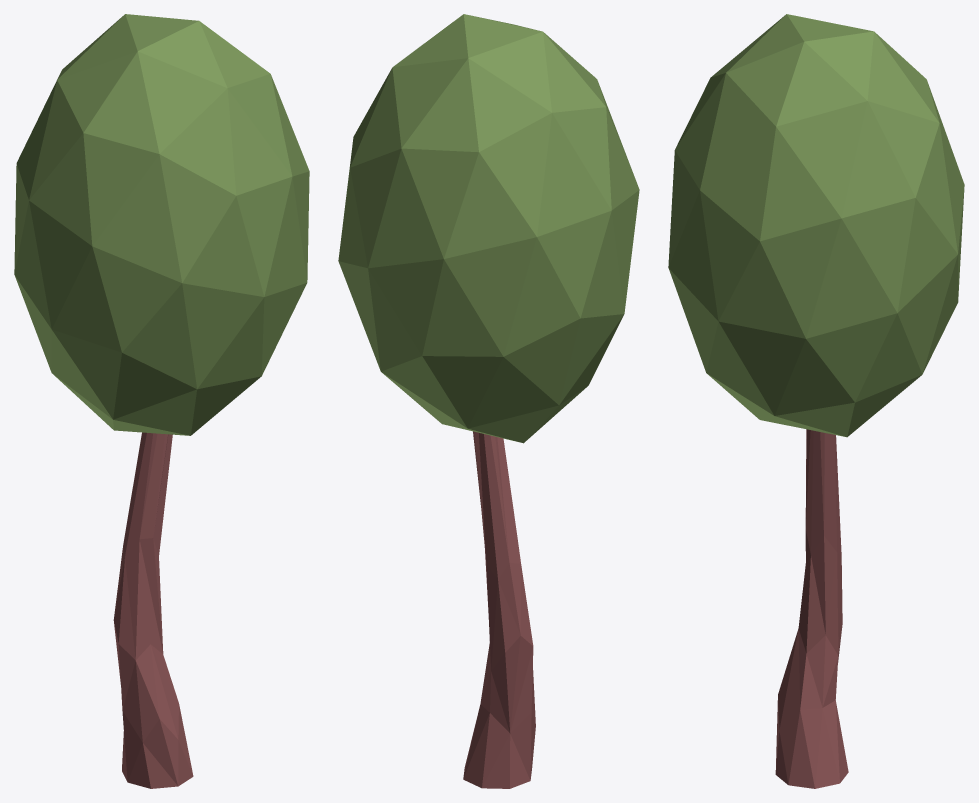
Rendered from Poplar Tree_4.fbx.
3 views of the same model, side by side, from view 1: azimuth 30°, elevation 25°; view 2: azimuth 150°, elevation 25°; view 3: azimuth 270°, elevation 25° (orthographic).
Parts seen in each view (by area): view 1: Poplar Tree_4; view 2: Poplar Tree_4; view 3: Poplar Tree_4.
Part boxes in pixels (box(x1,y1,x2,y2)): Poplar Tree_4: box(14, 14, 309, 788); Poplar Tree_4: box(338, 14, 639, 788); Poplar Tree_4: box(668, 14, 964, 788).
Size of the model in its own units: 2.35 by 6.55 by 2.34.
